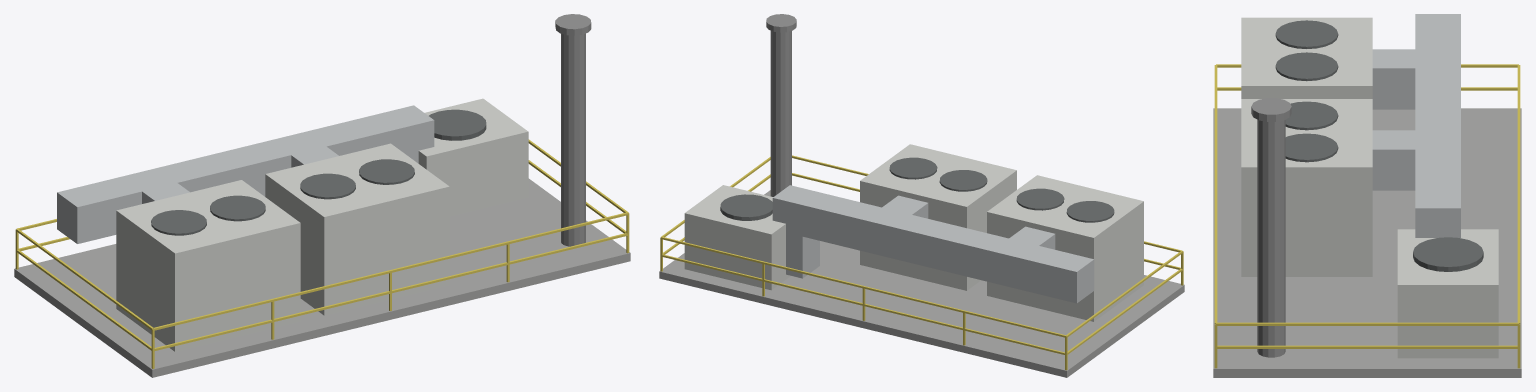
File: dm_rooftophvac.glb
3 renders of one model, left to right at view 1: azimuth 30°, elevation 25°; view 2: azimuth 150°, elevation 25°; view 3: azimuth 270°, elevation 25°, orthographic. The views are drawn at different scales.
Visible parts, largest first — view 1: dm_rooftophvac; view 2: dm_rooftophvac; view 3: dm_rooftophvac.
Part boxes in pixels (box(x1,y1,x2,y2)): dm_rooftophvac: box(14, 14, 630, 377); dm_rooftophvac: box(659, 14, 1184, 377); dm_rooftophvac: box(1213, 14, 1521, 377).
Size of the model in its own units: 12.2 by 5.56 by 6.1.
